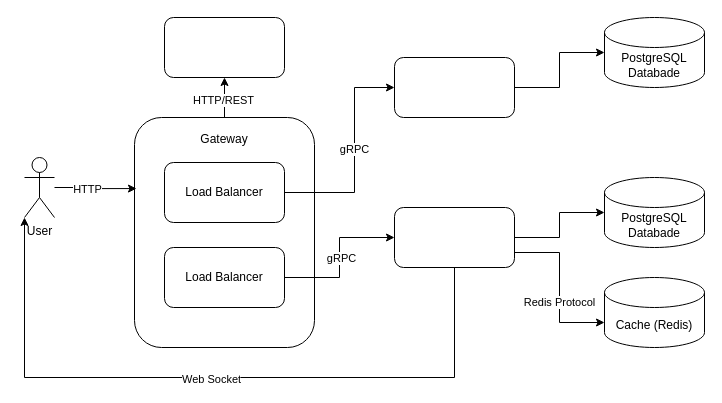
This 722x403 diagram has some shape labels left out. Each missing label, with the centre of its shape:
"Competition Service" belongs at point (454, 237).
"Service Discovery" belongs at point (224, 47).
"User Management Service" belongs at point (454, 87).
